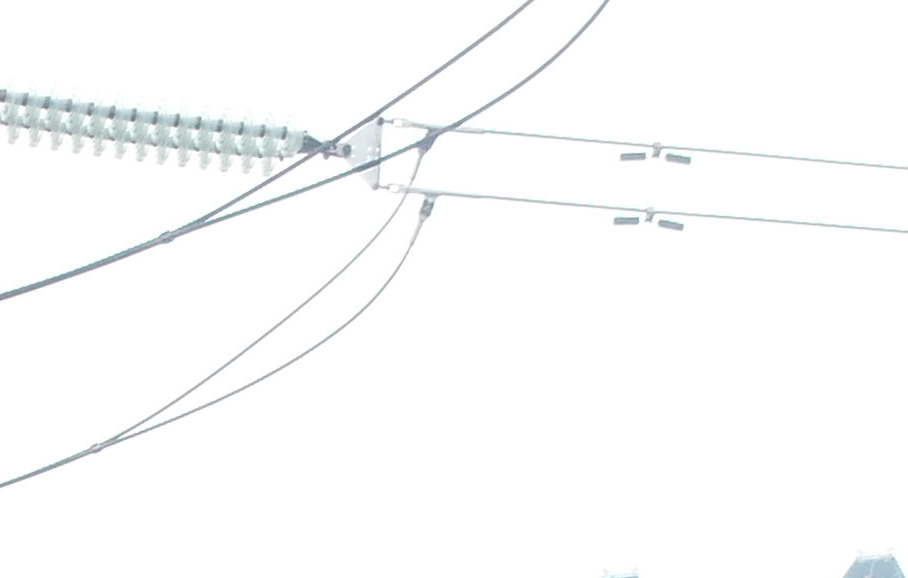damper: (618, 138, 691, 166), (612, 206, 683, 232)
